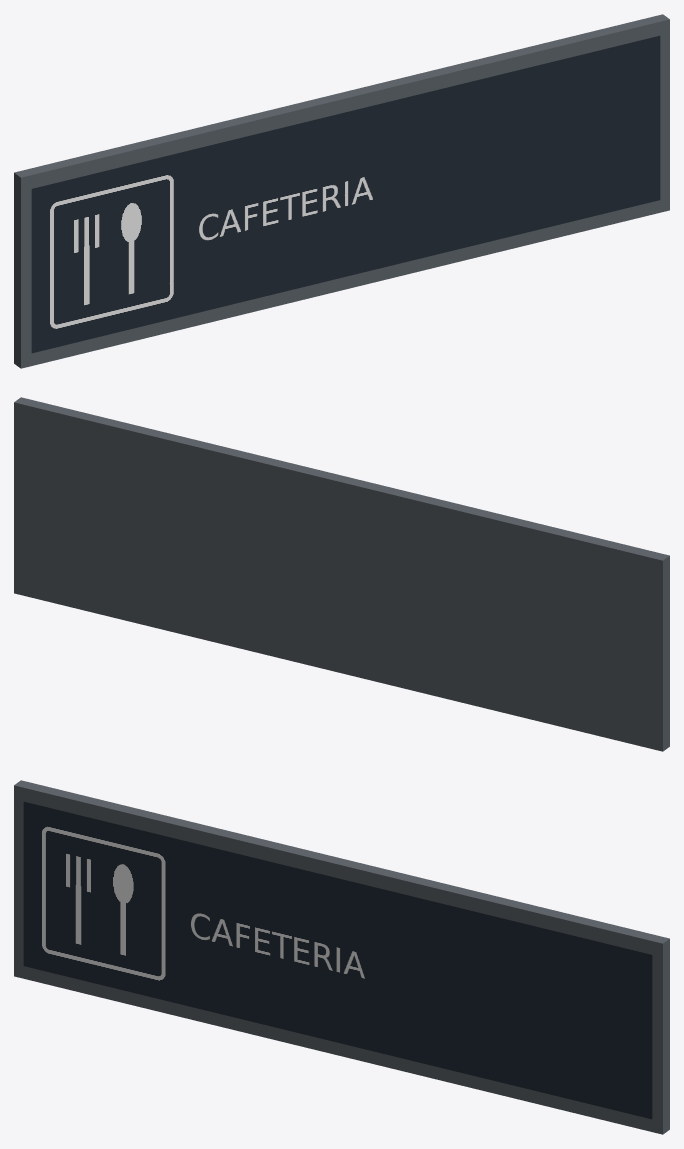
File: 13_wall_cafeteria.glb
3 renders of one model, top to bottom at view 1: azimuth 30°, elevation 25°; view 2: azimuth 150°, elevation 25°; view 3: azimuth 330°, elevation 25°, orthographic.
Parts seen in each view (by area): view 1: Sign_Face, Housing; view 2: Housing; view 3: Sign_Face, Housing.
Boxes of the visible parts, x1,y1,x2,y2 form: Sign_Face: (31,35,660,353); Housing: (14,14,669,368); Housing: (14,397,669,751); Sign_Face: (23,801,652,1119); Housing: (14,780,669,1134).
Size of the model in its own units: 0.64 by 0.18 by 0.013.
2 materials, 1 textured.
